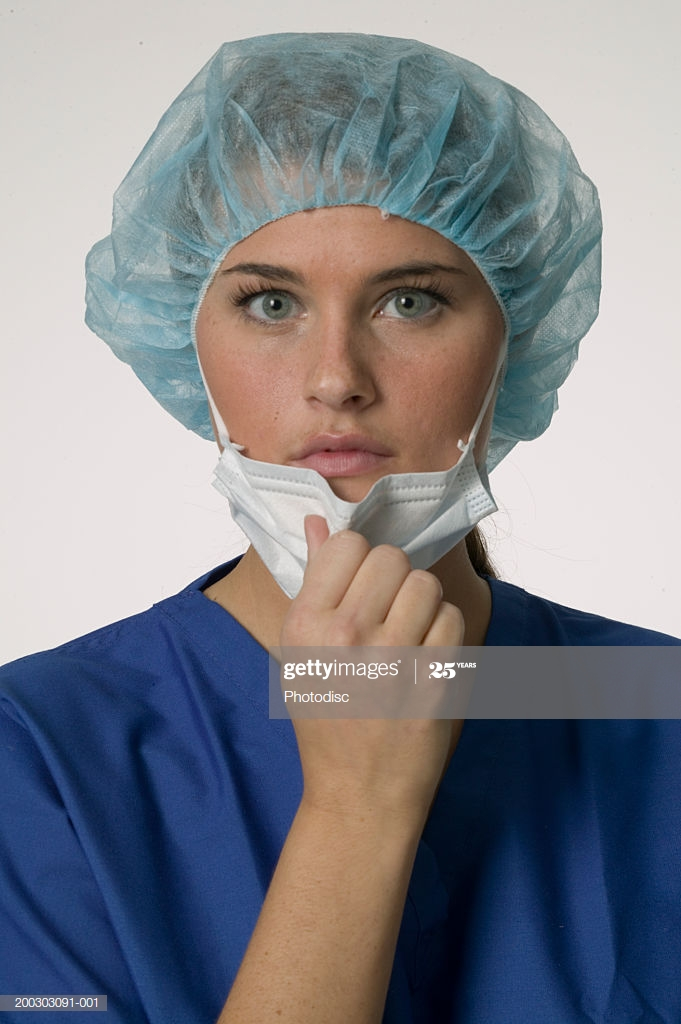mask_weared_incorrect: (223, 261, 490, 555)
